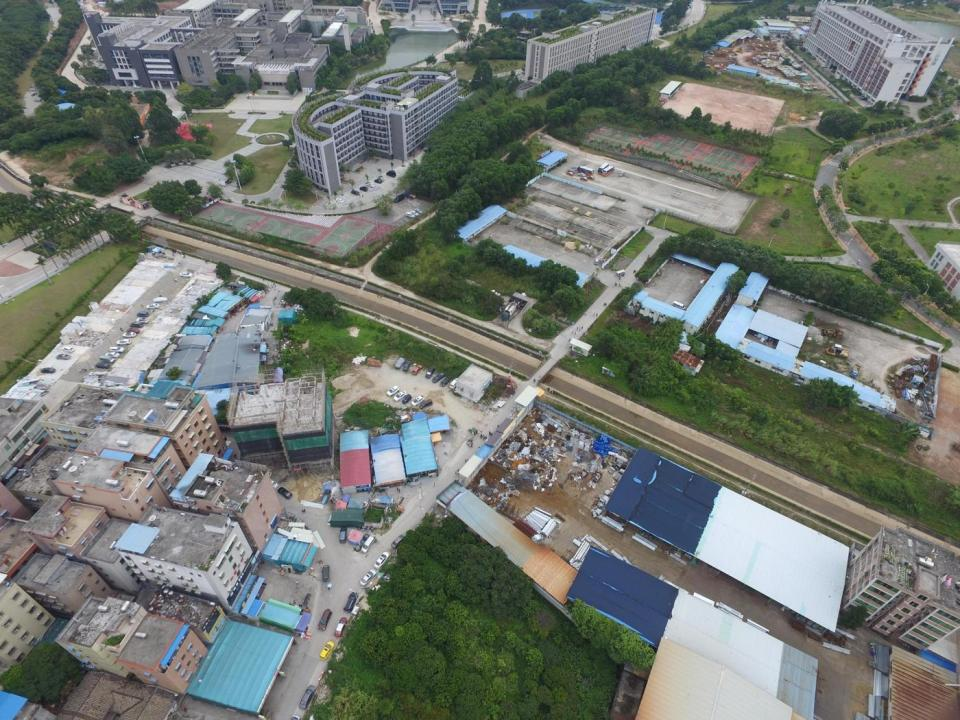bus: (576, 164, 594, 177), (602, 165, 614, 177), (597, 163, 610, 174)
car: (298, 684, 315, 710), (317, 608, 332, 632), (318, 641, 335, 661), (343, 591, 358, 613), (360, 568, 376, 587), (374, 551, 390, 569), (334, 616, 347, 638), (391, 534, 407, 550), (277, 486, 293, 500), (264, 476, 278, 489), (394, 390, 406, 403), (431, 372, 445, 383), (394, 356, 405, 369), (411, 395, 424, 406), (322, 564, 330, 581), (440, 376, 452, 387), (386, 386, 399, 396), (40, 366, 56, 374), (411, 364, 422, 375), (95, 361, 110, 369), (117, 338, 132, 346), (56, 353, 72, 360), (104, 351, 120, 358), (108, 346, 124, 353), (449, 378, 459, 389), (61, 345, 74, 353), (425, 367, 434, 378), (152, 296, 168, 302), (136, 316, 149, 323), (126, 327, 141, 333), (402, 361, 411, 371), (123, 332, 137, 338), (146, 303, 160, 309), (179, 272, 193, 278), (615, 269, 625, 277), (129, 322, 143, 327), (594, 258, 600, 266), (580, 176, 588, 181), (577, 172, 586, 176), (566, 171, 573, 176), (588, 175, 595, 180)
truck: (502, 300, 517, 321), (320, 488, 332, 504), (831, 344, 848, 353), (850, 364, 861, 377), (99, 354, 115, 362)
van: (361, 535, 375, 554), (420, 398, 432, 410), (339, 526, 347, 544), (136, 310, 149, 318), (402, 394, 411, 404), (620, 171, 626, 177)
